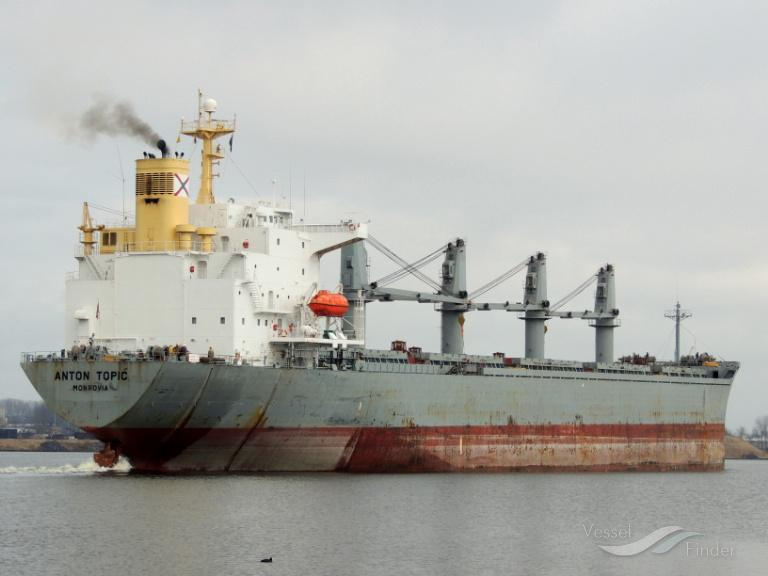OCR: (46, 362, 134, 400)
